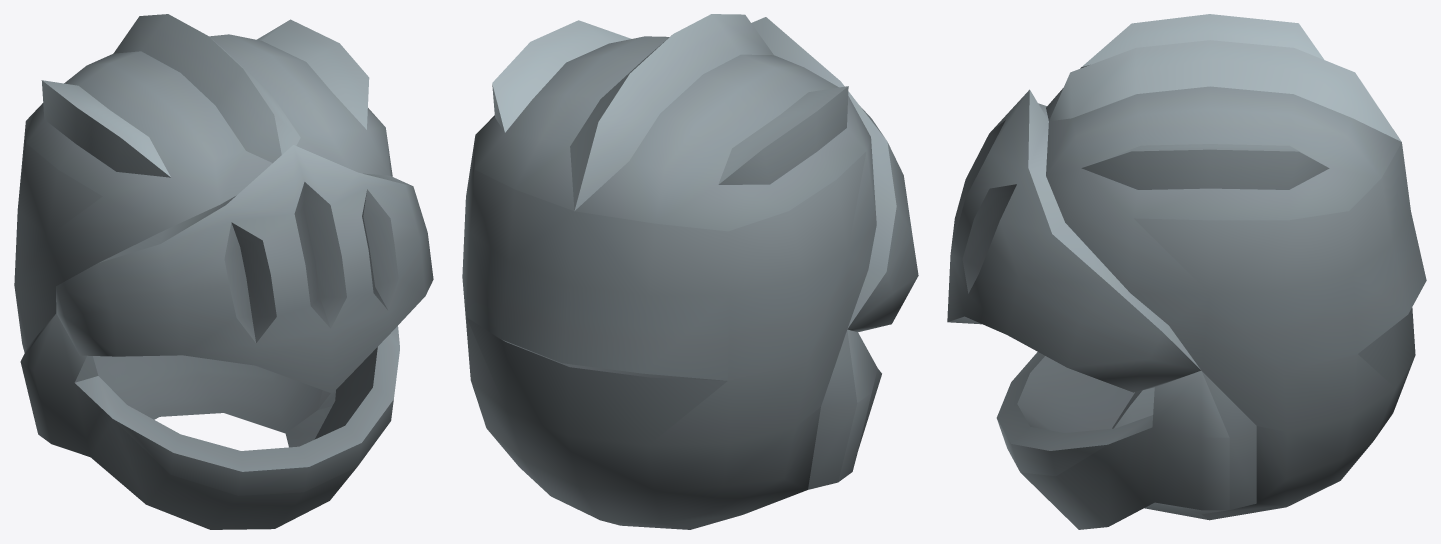
File: kk-Knight_Helmet.glb
3 views of the same model, side by side, from view 1: azimuth 30°, elevation 25°; view 2: azimuth 150°, elevation 25°; view 3: azimuth 270°, elevation 25° (orthographic). The views are drawn at different scales.
Parts seen in each view (by area): view 1: Knight_Helmet; view 2: Knight_Helmet; view 3: Knight_Helmet.
Boxes of the visible parts, x1,y1,x2,y2 form: Knight_Helmet: [14, 14, 433, 529]; Knight_Helmet: [462, 14, 918, 529]; Knight_Helmet: [947, 14, 1426, 529].
Bounding box in the file's own units: 1.14 × 1.36 × 1.25.
Materials: 1 (1 with a texture image).
